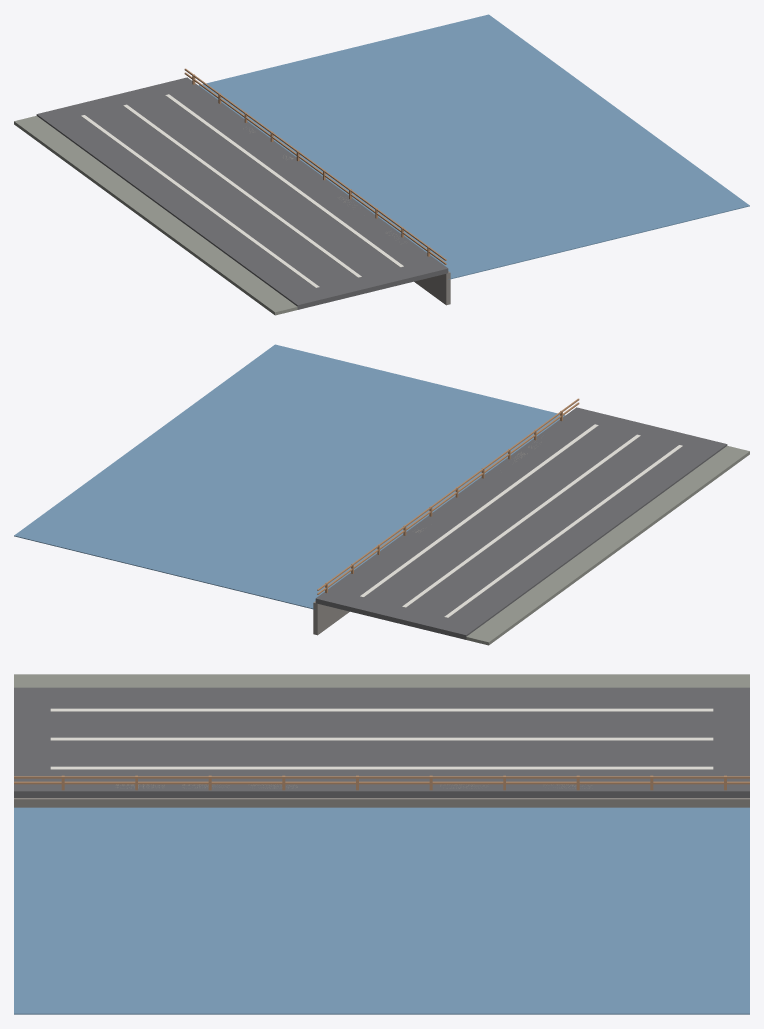
Rendered from Track_CoastEdge.glb.
3 renders of one model, top to bottom at view 1: azimuth 30°, elevation 25°; view 2: azimuth 150°, elevation 25°; view 3: azimuth 270°, elevation 25°, orthographic. The views are drawn at different scales.
Bounding box in the file's own units: 31.5 × 2.9 × 30.
